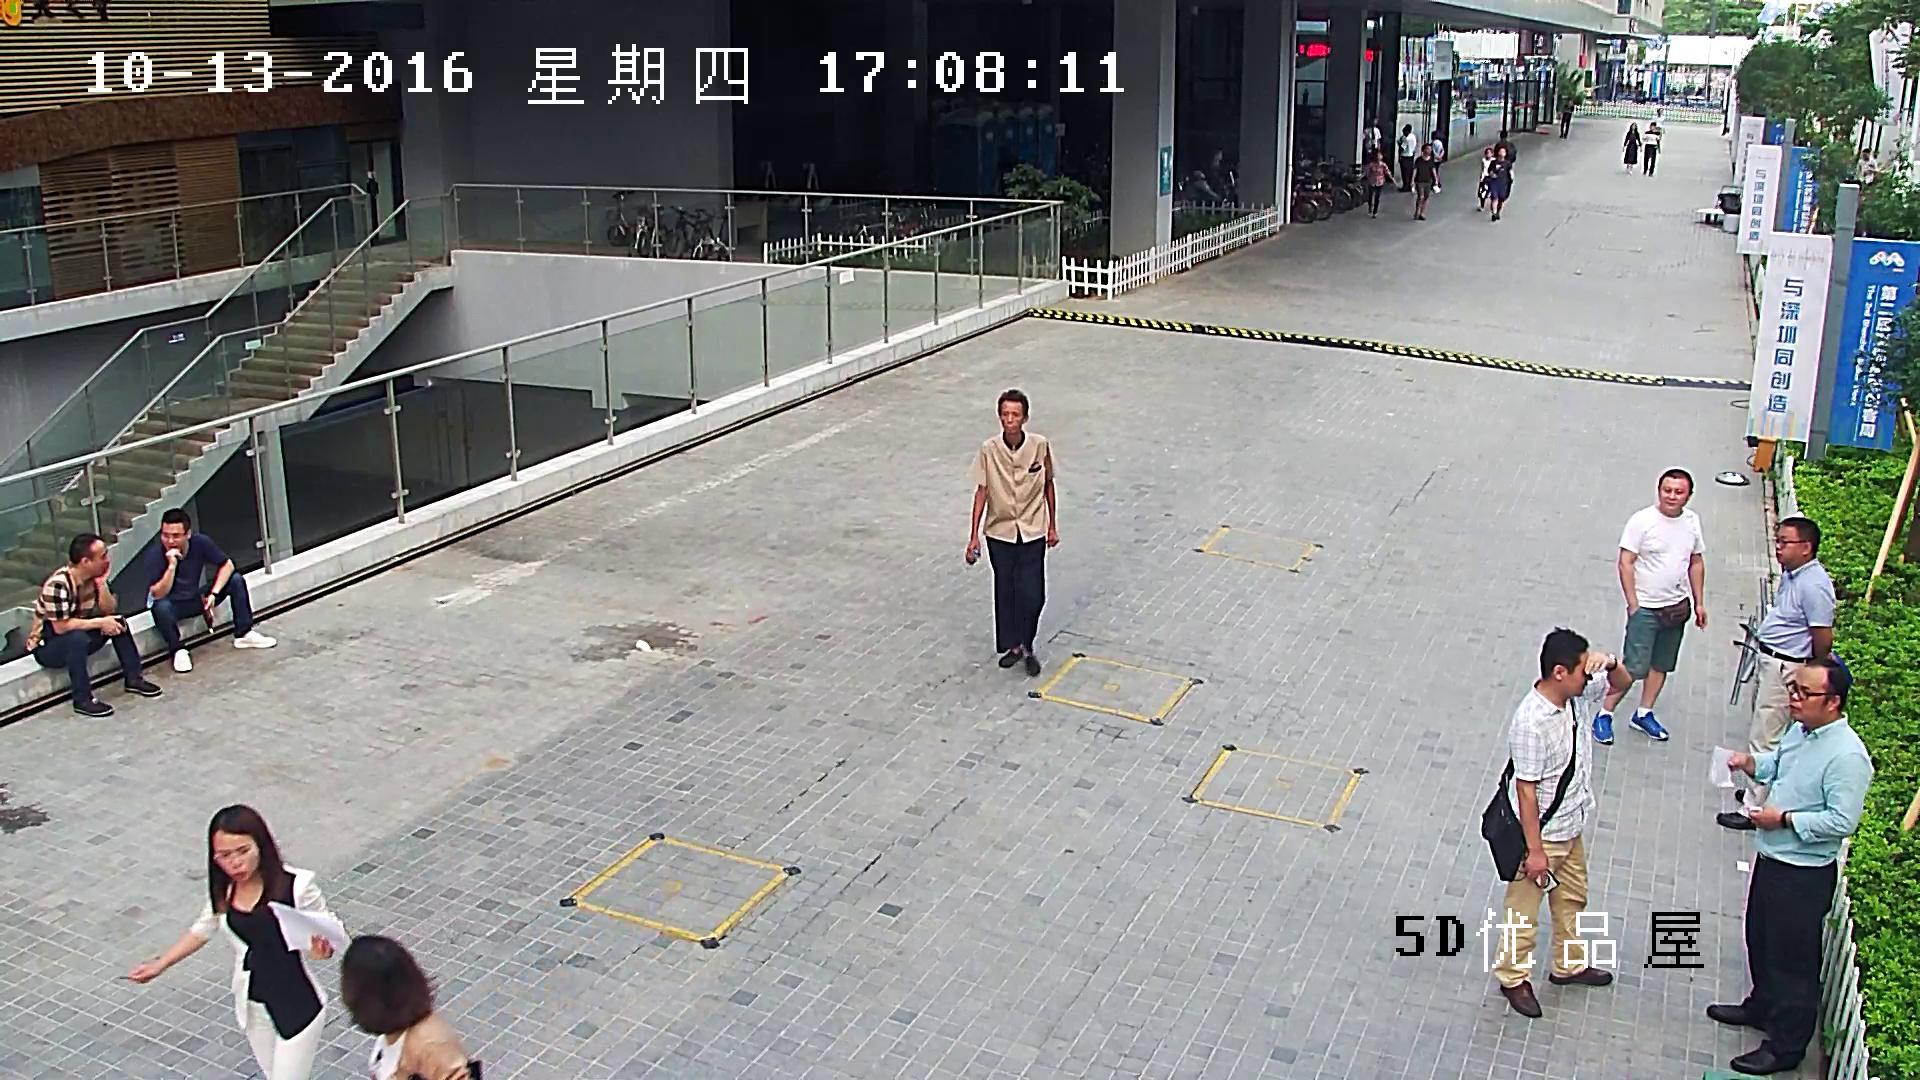person: (1707, 657, 1871, 1076), (128, 803, 351, 1080), (1479, 626, 1631, 1016), (1716, 517, 1835, 829), (1592, 468, 1706, 745), (966, 389, 1058, 675), (26, 533, 161, 716), (143, 508, 276, 672), (344, 937, 478, 1080), (1478, 145, 1512, 220), (1412, 143, 1442, 220), (1363, 150, 1396, 217), (1207, 148, 1236, 192), (1476, 147, 1496, 211), (1397, 127, 1414, 191), (1641, 122, 1660, 176), (1622, 123, 1642, 173), (1362, 118, 1381, 160), (1493, 130, 1517, 162), (1856, 147, 1876, 182), (1431, 130, 1444, 187), (1559, 97, 1574, 138), (1465, 93, 1475, 136), (1656, 107, 1664, 136)
